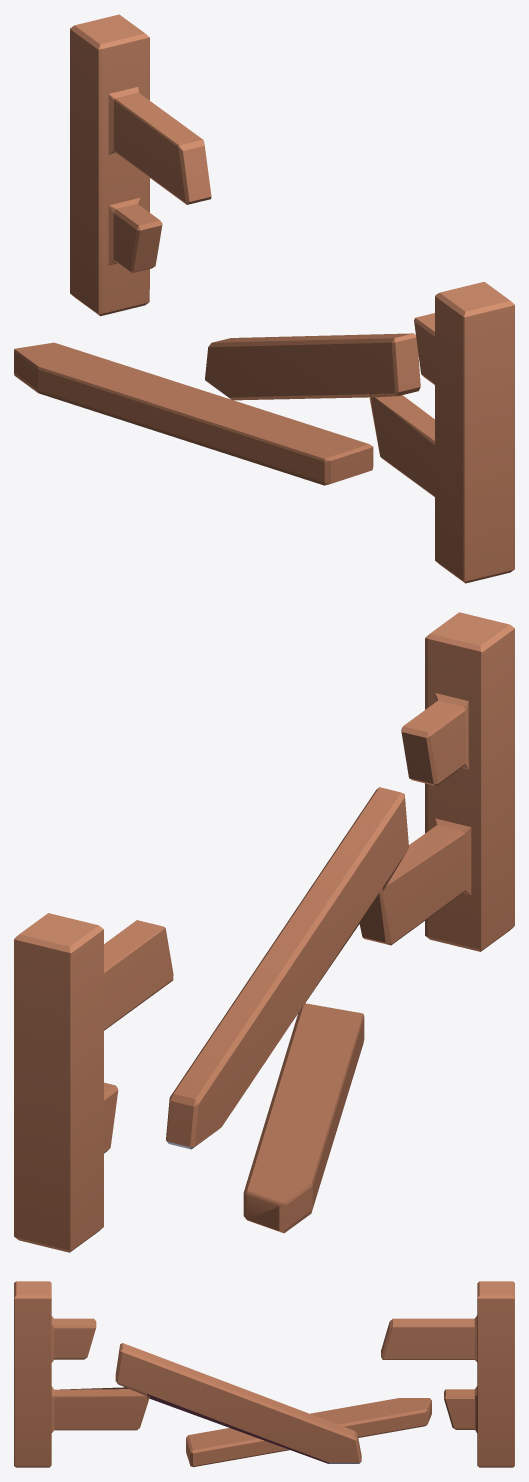
Rendered from kenney-fantasy-town__fence-broken.glb.
3 views of the same model, one above another, from view 1: azimuth 30°, elevation 25°; view 2: azimuth 150°, elevation 25°; view 3: azimuth 270°, elevation 25° (orthographic). The views are drawn at different scales.
Visible parts, largest first — view 1: fence-broken; view 2: fence-broken; view 3: fence-broken.
Part boxes in pixels (x1=…): fence-broken: x1=14, y1=14, x2=514, y2=583; fence-broken: x1=14, y1=612, x2=514, y2=1252; fence-broken: x1=14, y1=1281, x2=514, y2=1467.
Bounding box in the file's own units: 0.2547 × 0.38 × 1.
1 material, 1 textured.
